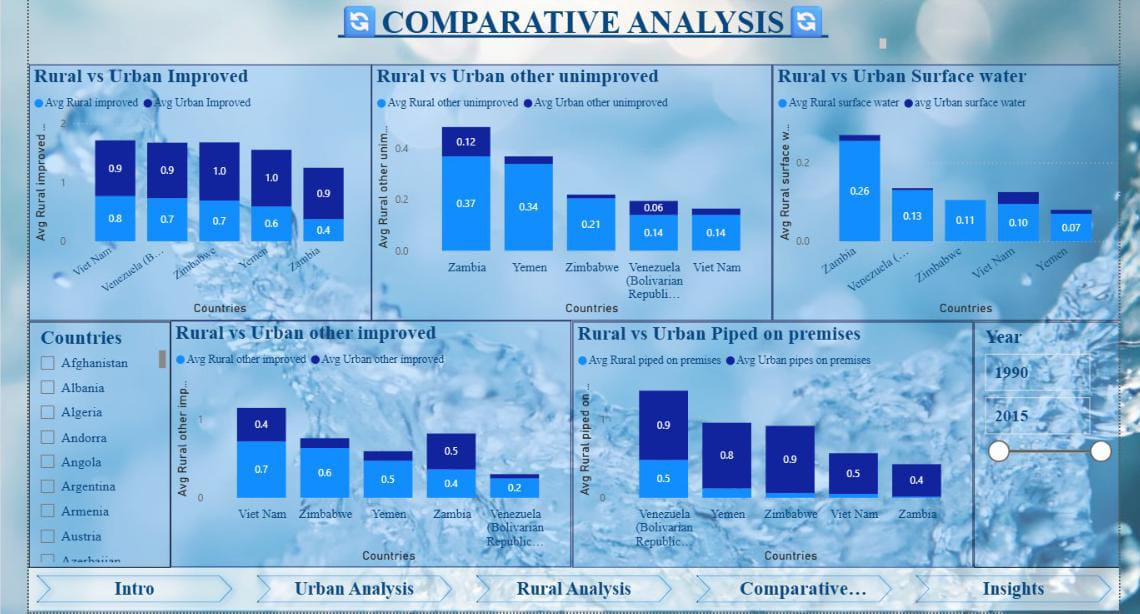

The dashboard page shown, as its layout file describes it:
{"tool":"powerbi","page":{"name":"Comparative Analysis","canvas":[1280,720],"ordinal":3},"visuals":[{"type":"textbox","title":"🔄COMPARATIVE ANALYSIS🔄","box":[289.5,0,721.8,63.1],"z":0},{"type":"columnChart","title":"Rural vs Urban Improved","fields":{"Category":["Drinking Water Analysis Table.Countries and areas"],"Y":["Drinking Water Analysis Table.Avg Rural improved","Drinking Water Analysis Table.Avg Urban Improved"]},"box":[0,76.8,402.1,300.5],"z":1000},{"type":"columnChart","title":"Rural vs Urban other improved","fields":{"Category":["Drinking Water Analysis Table.Countries and areas"],"Y":["Drinking Water Analysis Table.Avg Rural other improved","Drinking Water Analysis Table.Avg Urban other improved"]},"box":[166.3,377.9,470.8,289.8],"z":2000},{"type":"columnChart","title":"Rural vs Urban other unimproved","fields":{"Category":["Drinking Water Analysis Table.Countries and areas"],"Y":["Drinking Water Analysis Table.Avg Rural other unimproved","Drinking Water Analysis Table.Avg Urban other unimproved"]},"box":[402.1,76.8,470.7,300.5],"z":3000},{"type":"columnChart","title":"Rural vs Urban Piped on premises","fields":{"Category":["Drinking Water Analysis Table.Countries and areas"],"Y":["Drinking Water Analysis Table.Avg Rural piped on premises","Drinking Water Analysis Table.Avg Urban pipes on premises"]},"box":[638.3,379.1,470.8,288.6],"z":4000},{"type":"columnChart","title":"Rural vs Urban Surface water","fields":{"Category":["Drinking Water Analysis Table.Countries and areas"],"Y":["Drinking Water Analysis Table.Avg Rural surface water","Drinking Water Analysis Table.avg Urban surface water"]},"box":[872.7,76.8,407.5,300.5],"z":5000},{"type":"pageNavigator","box":[0,668.3,1280.3,50.8],"z":6000},{"type":"slicer","fields":{"Values":["Drinking Water Analysis Table.Countries"]},"box":[0,379.1,166.3,288.6],"z":7000},{"type":"slicer","fields":{"Values":["Drinking Water Analysis Table.Year"]},"box":[1109.1,379.1,171.2,288.6],"z":8000}]}

Visuals, with their boxes on the page's 1280x720 design canvas (x1, y1, x2, y2). These are canvas units, not pixel positions in the 1140x614 screenshot, which may show the page scaled, cropped or inside an application window:
"🔄COMPARATIVE ANALYSIS🔄" textbox: [290,0,1011,63]
"Rural vs Urban Improved" columnChart: [0,77,402,377]
"Rural vs Urban other improved" columnChart: [166,378,637,668]
"Rural vs Urban other unimproved" columnChart: [402,77,873,377]
"Rural vs Urban Piped on premises" columnChart: [638,379,1109,668]
"Rural vs Urban Surface water" columnChart: [873,77,1280,377]
pageNavigator: [0,668,1280,719]
slicer - Drinking Water Analysis Table.Countries: [0,379,166,668]
slicer - Drinking Water Analysis Table.Year: [1109,379,1280,668]
